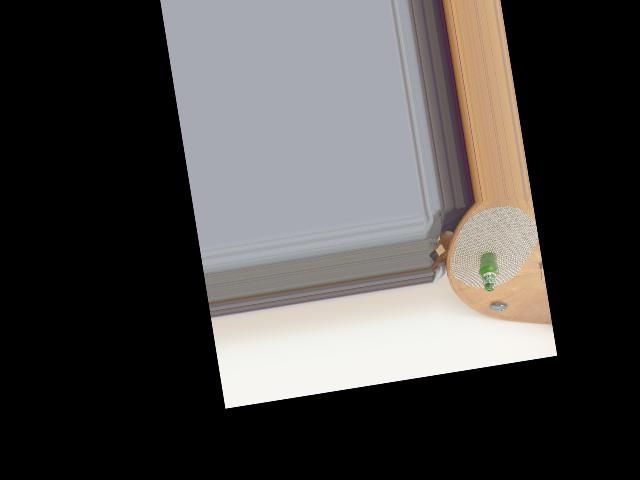beer: (475, 251, 503, 293)
